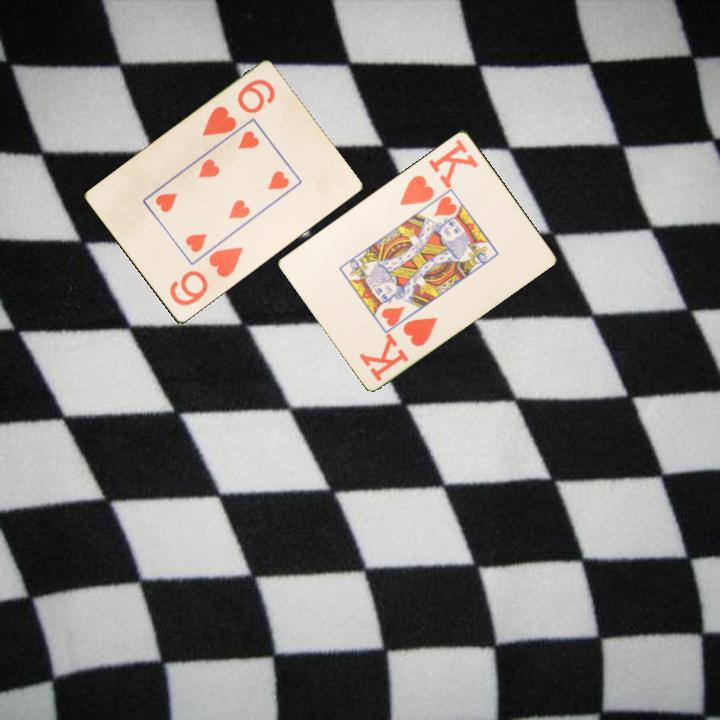6h: (166, 243, 246, 309), (198, 76, 278, 140)
Kh: (396, 135, 482, 208), (356, 313, 441, 384)
